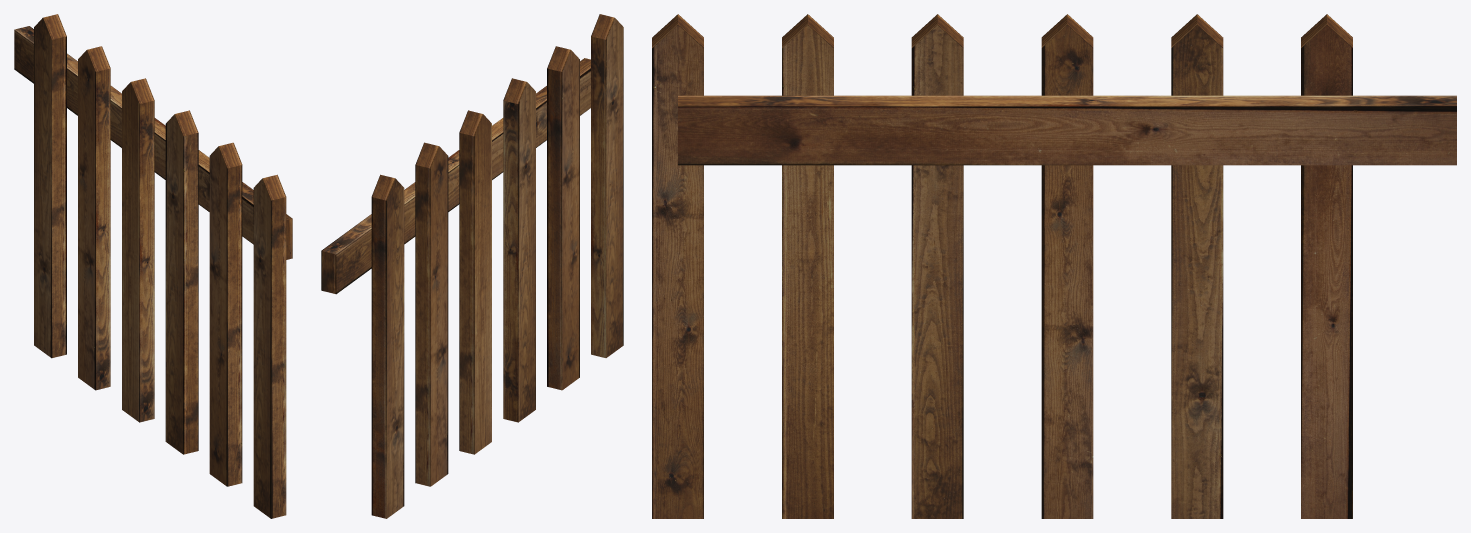
The model's file is 038 Wooden Fence.obj.
3 renders of one model, left to right at view 1: azimuth 30°, elevation 25°; view 2: azimuth 150°, elevation 25°; view 3: azimuth 270°, elevation 25°, orthographic. The views are drawn at different scales.
Visible parts, largest first — view 1: Cube.004, Cube.005, Cube.006, Cube, Cube.002, Cube.003, Cube.001; view 2: Cube.002, Cube.003, Cube, Cube.005, Cube.004, Cube.006, Cube.001; view 3: Cube.001, Cube.006, Cube, Cube.004, Cube.002, Cube.003, Cube.005.
Boxes of the visible parts, x1,y1,x2,y2 form: Cube.004: (165, 110, 198, 454); Cube.005: (209, 142, 242, 486); Cube.006: (253, 174, 286, 518); Cube: (122, 78, 154, 422); Cube.002: (78, 46, 110, 390); Cube.003: (34, 14, 66, 358); Cube.001: (14, 26, 292, 259); Cube.002: (415, 142, 448, 486); Cube.003: (371, 174, 404, 518); Cube: (459, 110, 491, 454); Cube.005: (547, 46, 579, 390); Cube.004: (503, 78, 535, 422); Cube.006: (591, 14, 623, 357); Cube.001: (321, 58, 590, 294); Cube.001: (678, 95, 1456, 165); Cube.006: (652, 14, 703, 518); Cube: (1041, 14, 1093, 518); Cube.004: (911, 14, 963, 518); Cube.002: (1171, 14, 1223, 518); Cube.003: (1301, 14, 1352, 518); Cube.005: (782, 14, 833, 518).
Size of the model in its own units: 0.4 by 4.2 by 6.2.
Materials: 1 (1 with a texture image).
